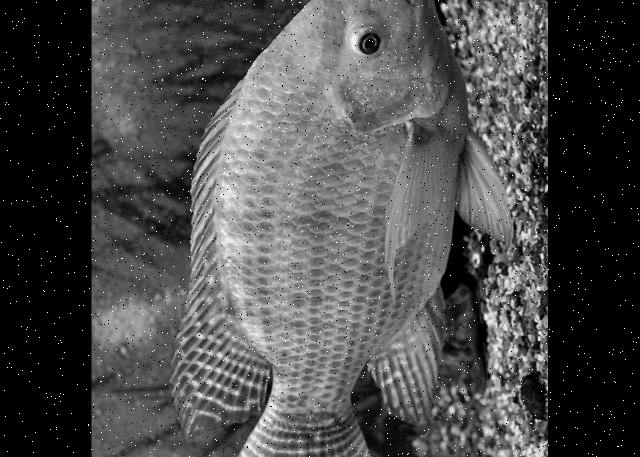Sirip Anal: (353, 284, 460, 428)
Sirip Dada: (374, 120, 450, 301)
Sirip Ekor: (202, 396, 403, 457)
Sirip Perut: (454, 130, 524, 249)
Sirip Punggung: (156, 72, 276, 434)
